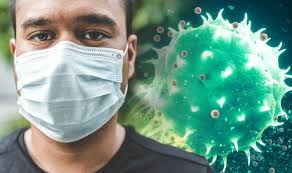flumask: (14, 53, 124, 140)
